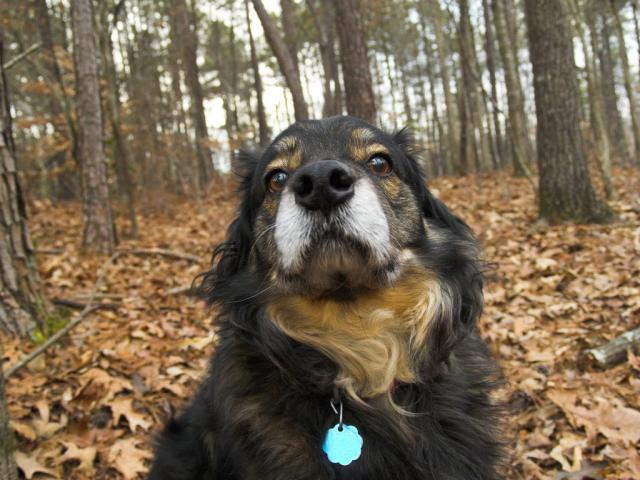Dog: (134, 113, 511, 480)
